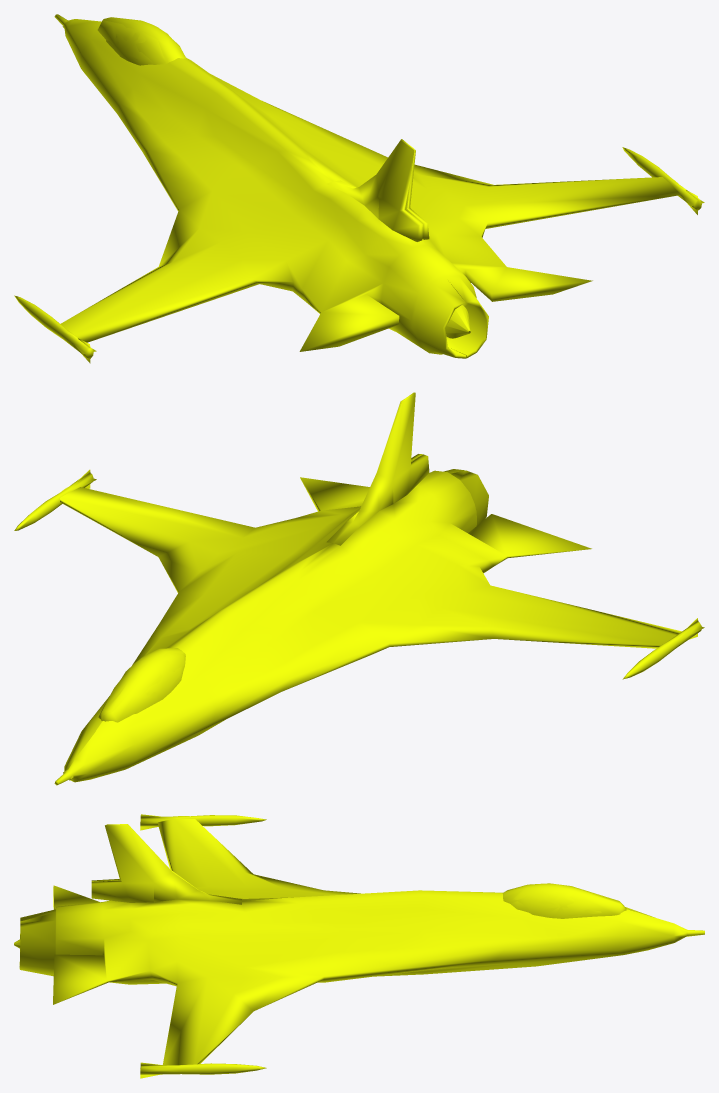
Rendered from sentouki.obj.
3 views of the same model, one above another, from view 1: azimuth 30°, elevation 25°; view 2: azimuth 150°, elevation 25°; view 3: azimuth 270°, elevation 25° (orthographic). The views are drawn at different scales.
Parts seen in each view (by area): view 1: player_円柱.001; view 2: player_円柱.001; view 3: player_円柱.001.
Boxes of the visible parts, left/top/right/bottom form: player_円柱.001: left=14, top=14, right=704, bottom=363; player_円柱.001: left=14, top=392, right=704, bottom=785; player_円柱.001: left=14, top=814, right=704, bottom=1078.
Bounding box in the file's own units: 28.46 × 8.26 × 32.74.
